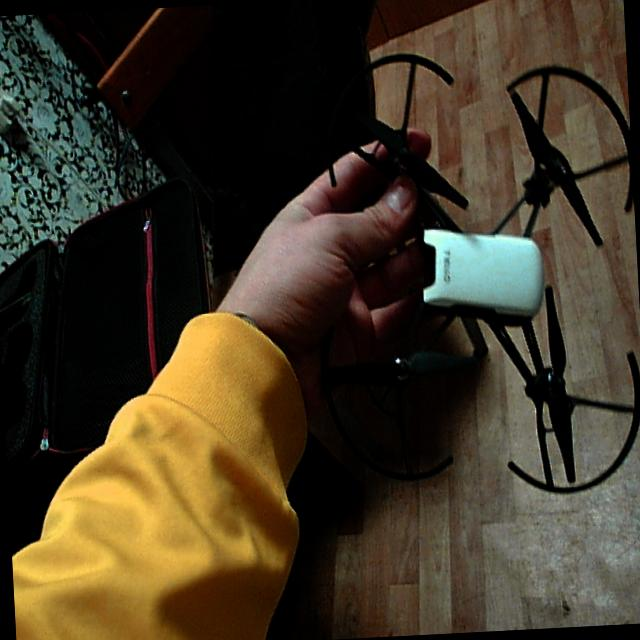drone: (304, 18, 640, 534)
